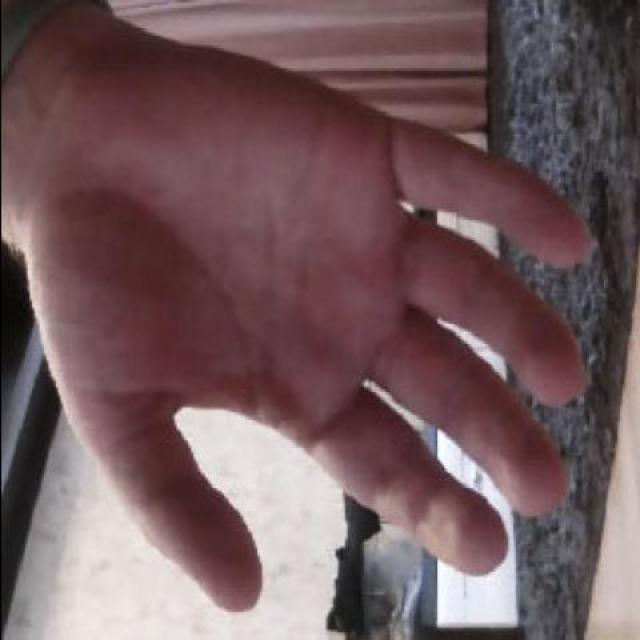Open Hand: (0, 1, 593, 615)
